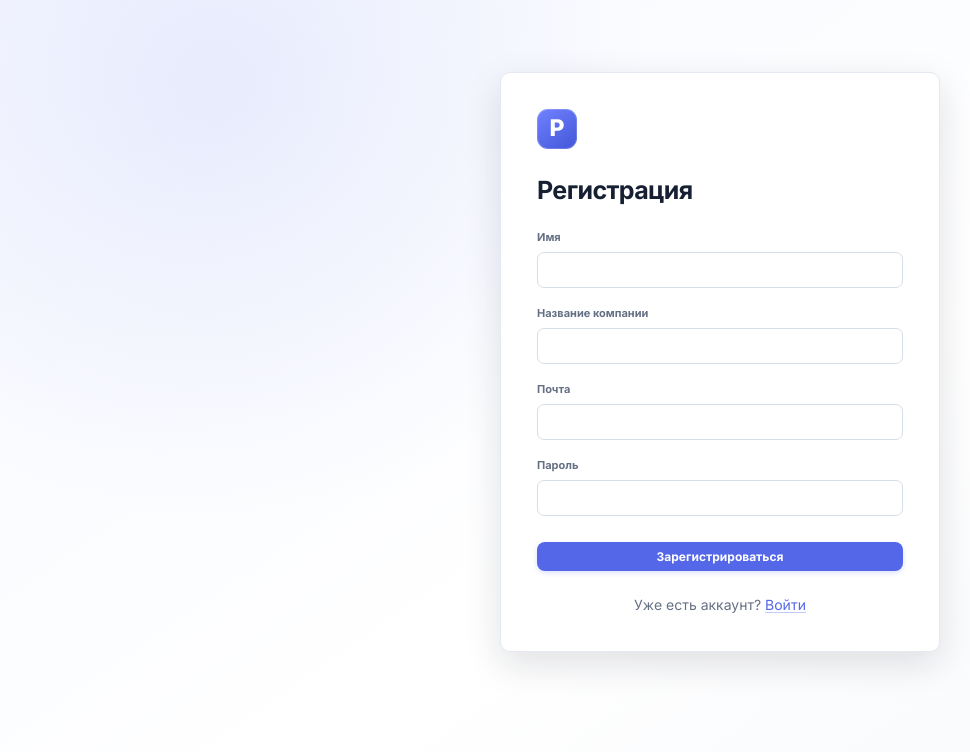
it: экран регистрации › показывает занятый адрес переведённым текстом, а не кодом
Type "Алексей" into the field labelled "Имя".
click(720, 270); type("Алексей")  # box [537, 252, 903, 288]
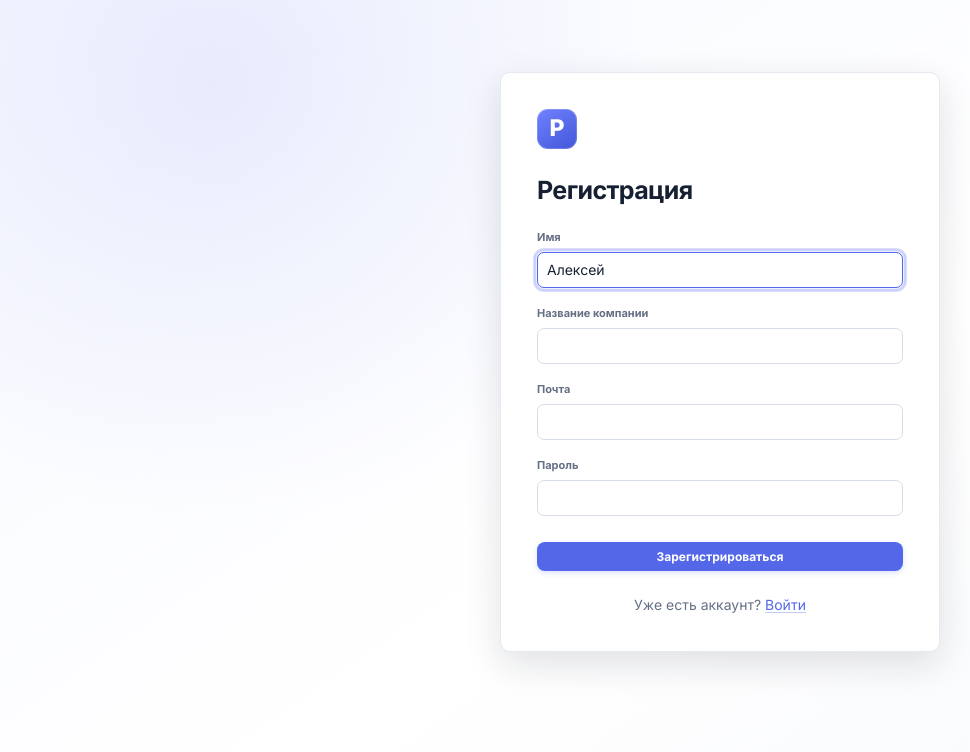
Type "Acme" into the field labelled "Название компании".
click(720, 346); type("Acme")  # box [537, 328, 903, 364]
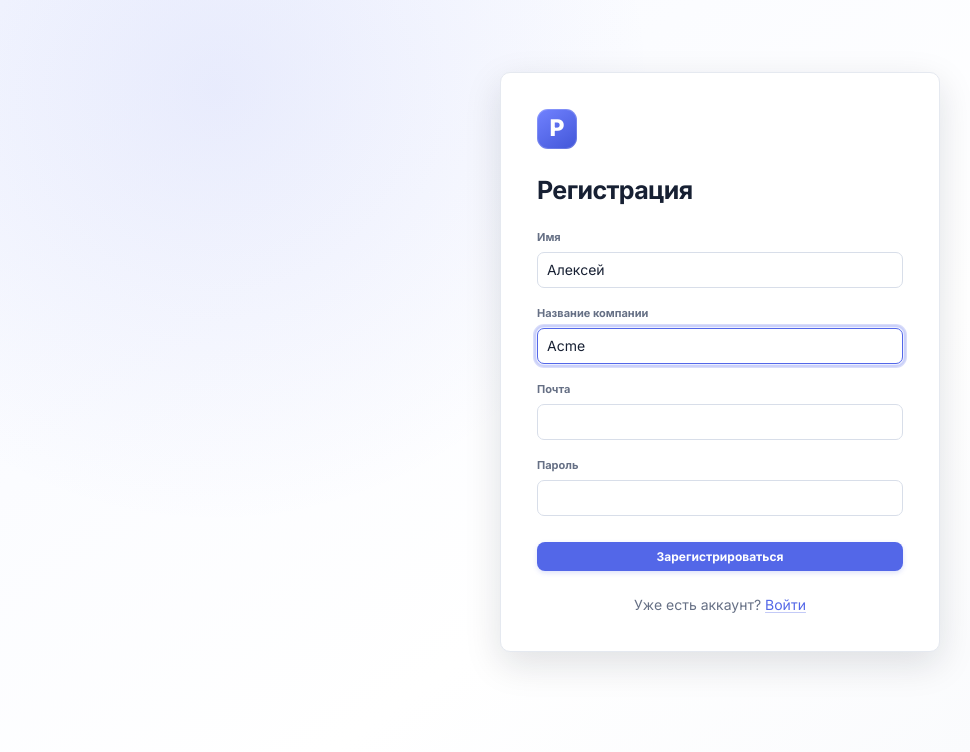
Type "a@b.c" into the field labelled "Почта".
click(720, 422); type("a@b.c")  # box [537, 404, 903, 440]
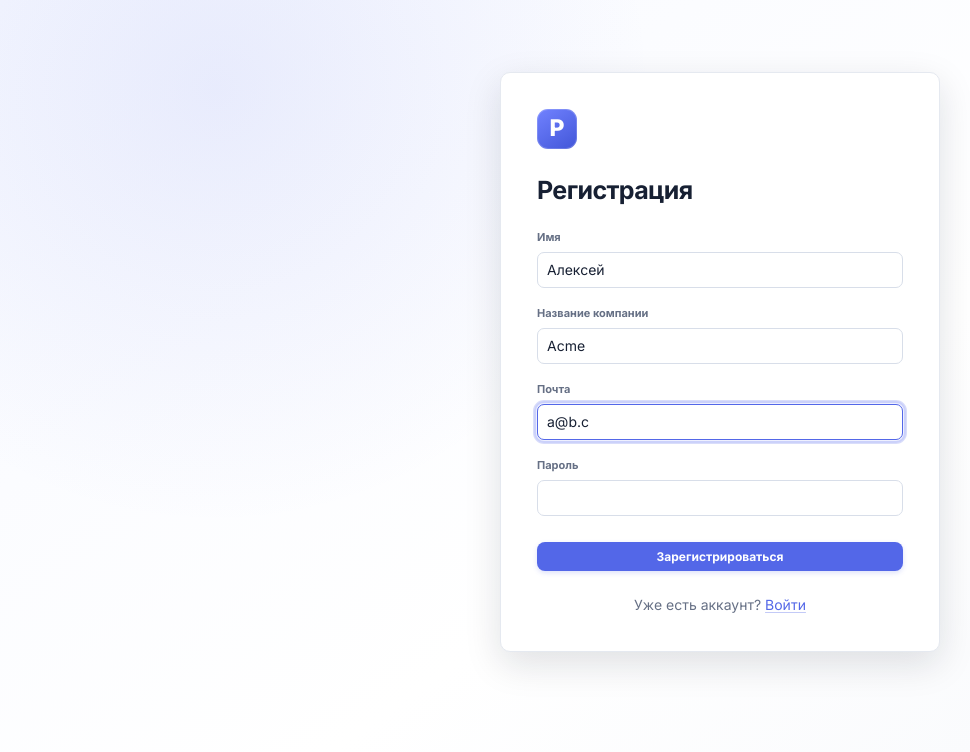
Type "s3cret-pass" into the password field labelled "Пароль".
click(720, 498); type("s3cret-pass")  # box [537, 480, 903, 516]
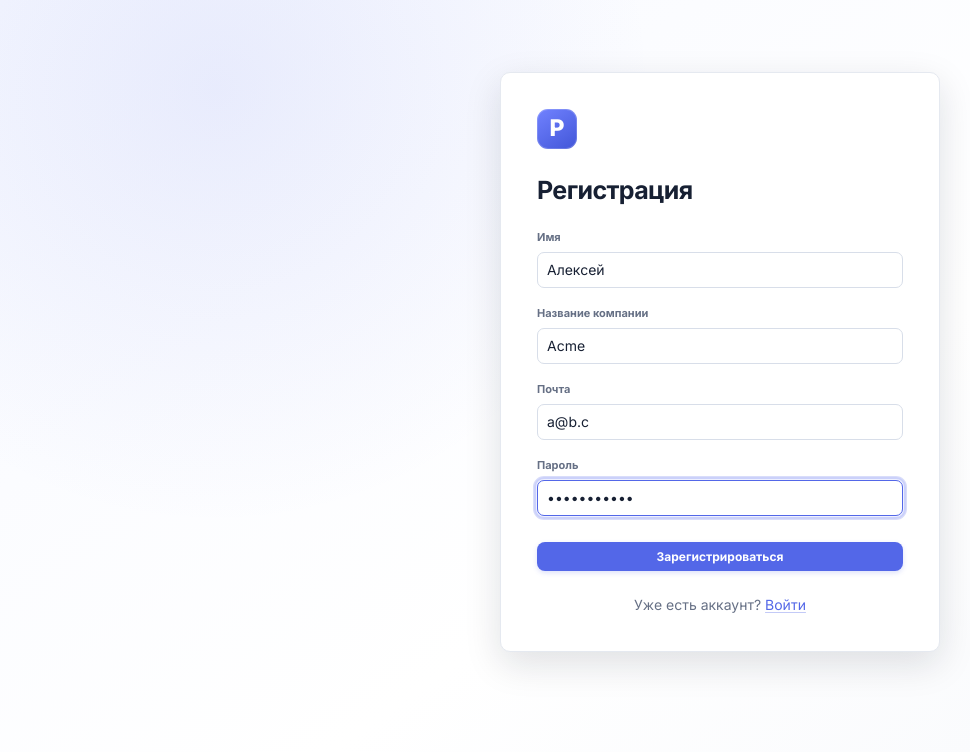
Click the button "Зарегистрироваться".
click(720, 556)  # box [537, 542, 903, 571]
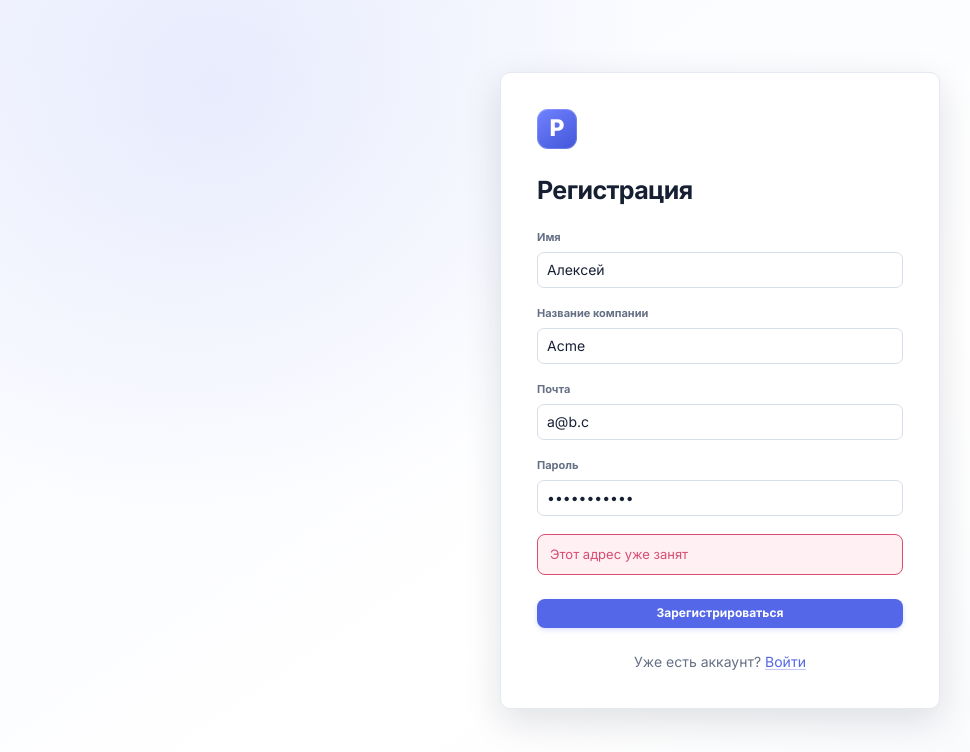
expect the text "Этот адрес уже занят" is shown: met, box [537, 534, 903, 575]
